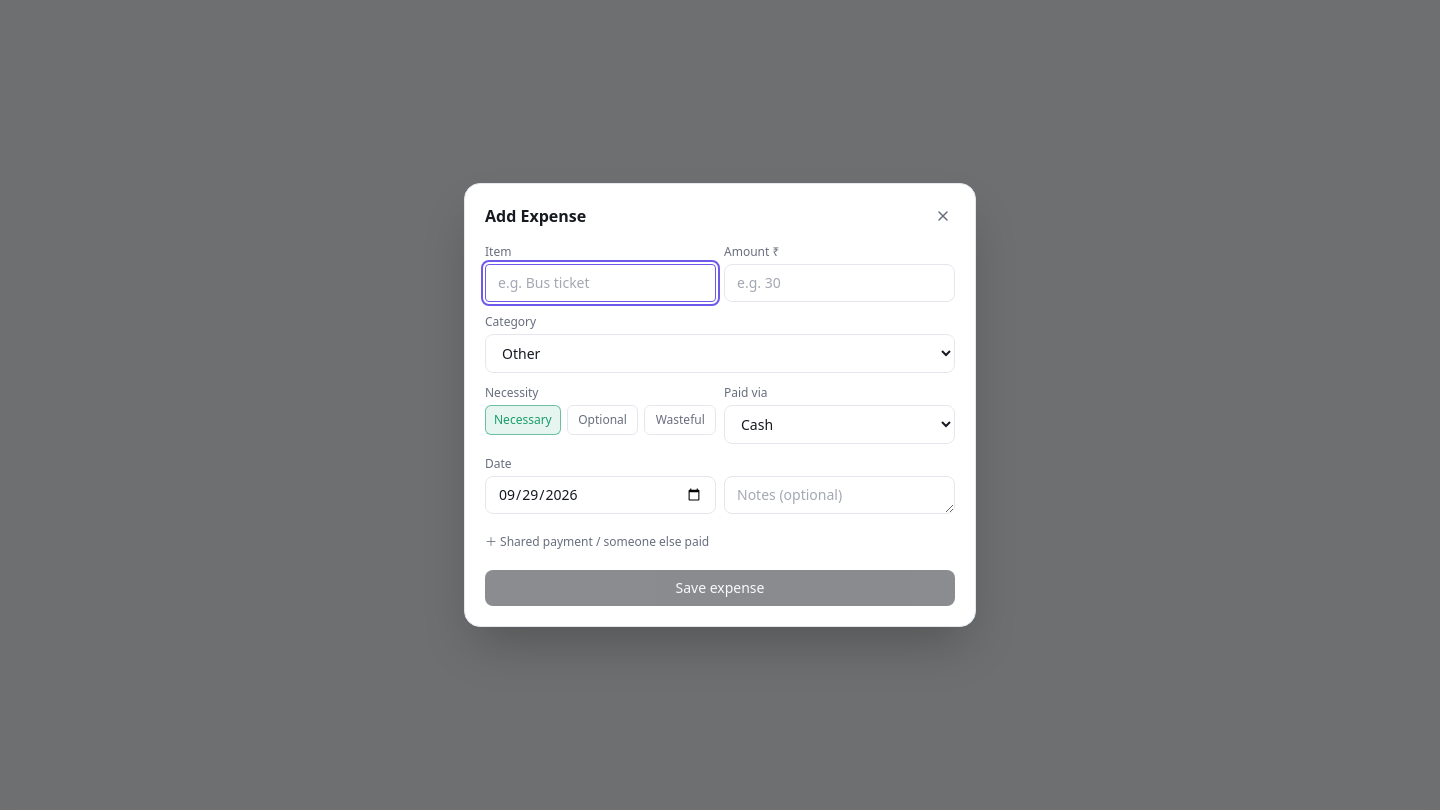
Scenario: shared payment disclosure › toggle ON: arrangement section appears with Me preselected
The image size is (1440, 810).
Click the button "＋ Shared payment / someone else paid": point(597, 542) x1=485 y1=526 x2=709 y2=558
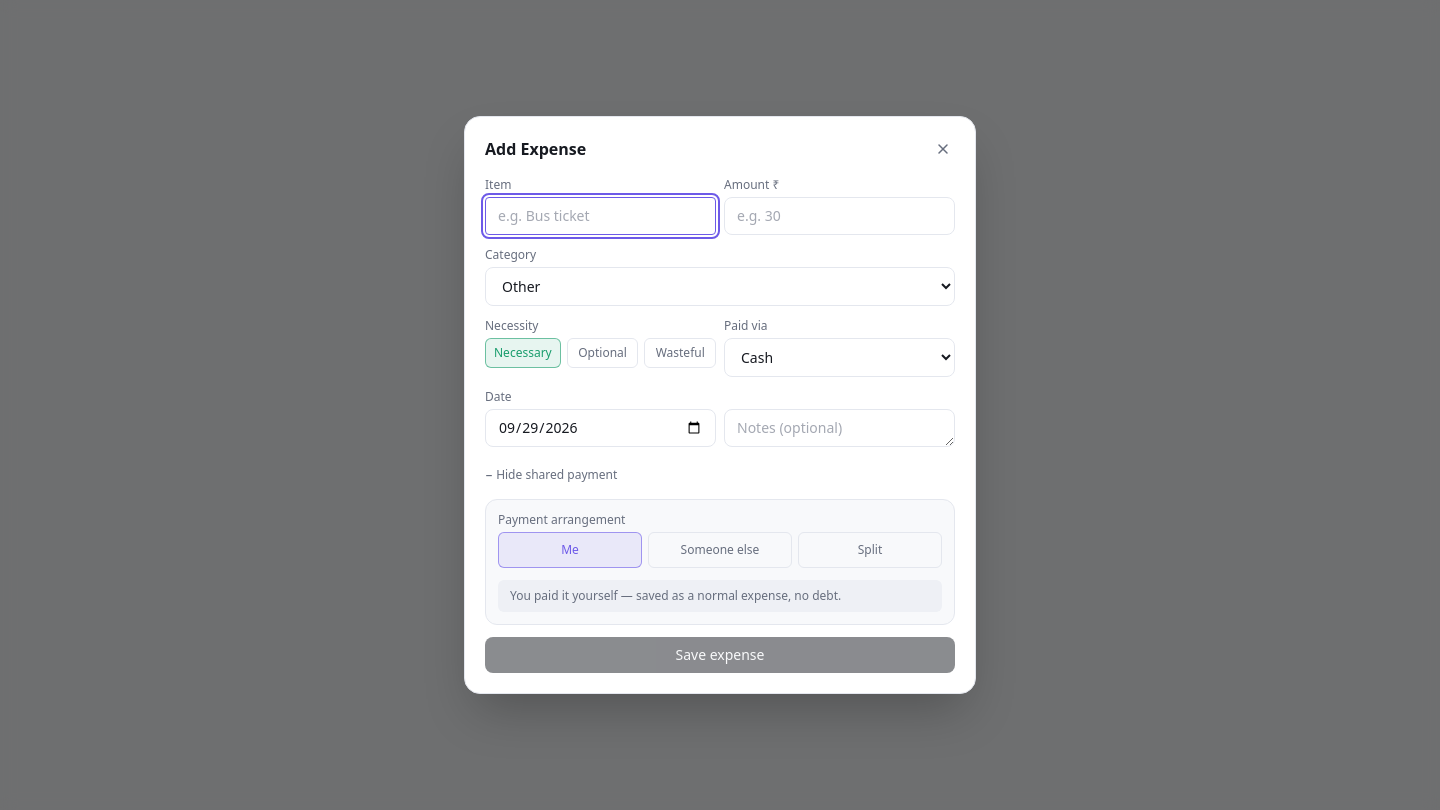
Now the text "Payment arrangement" is shown, box x1=498 y1=511 x2=625 y2=528
Now the button "Me" is shown, box x1=498 y1=532 x2=642 y2=568
Now the text "You paid it yourself — saved as a normal expense, no debt." is shown, box x1=498 y1=580 x2=942 y2=612
